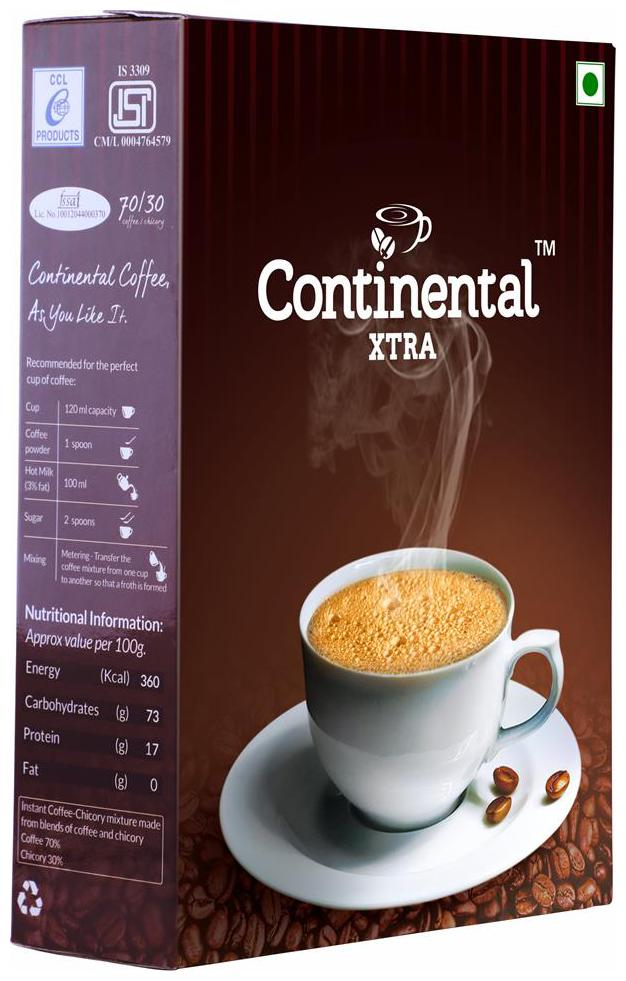fssai: (57, 189, 83, 209)
